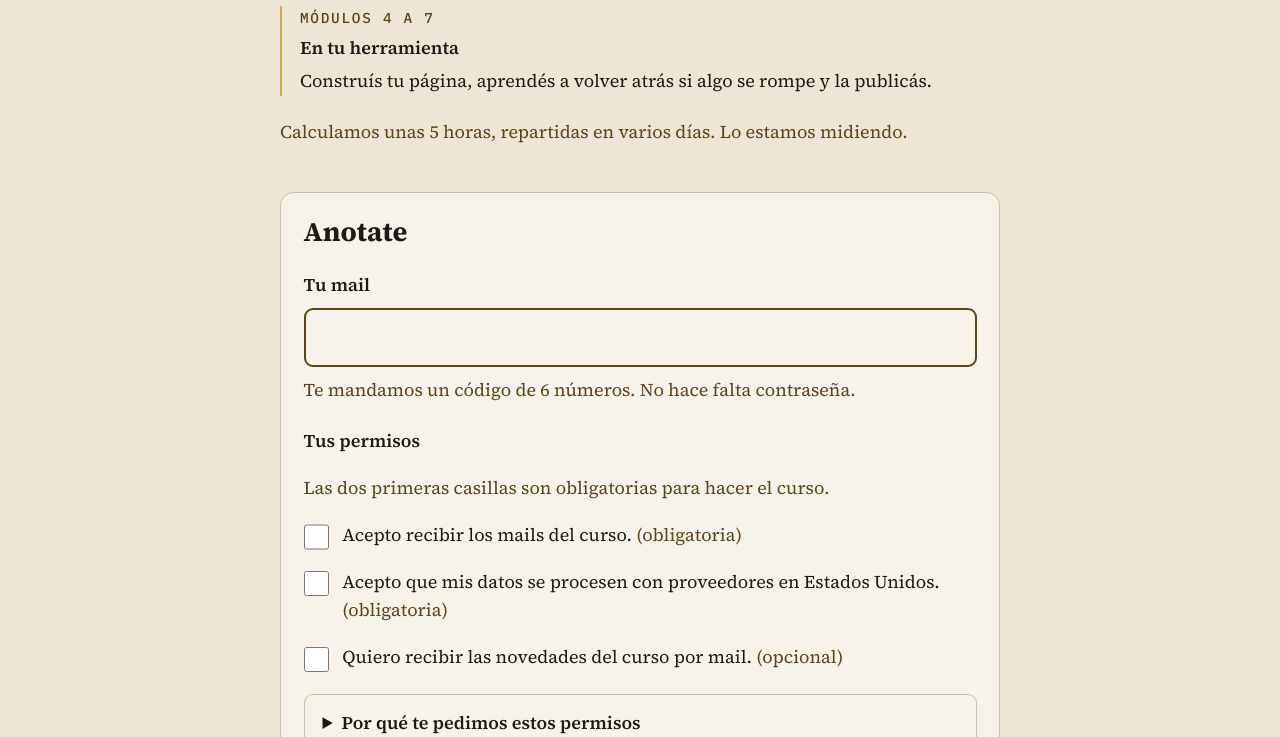
Test: Landing › sin las dos casillas obligatorias explica por qué y no manda nada
(page scrolled)
Type "persona@ejemplo.com" into the field labelled "Tu mail". click: (640, 338)
box: [304, 308, 976, 367]
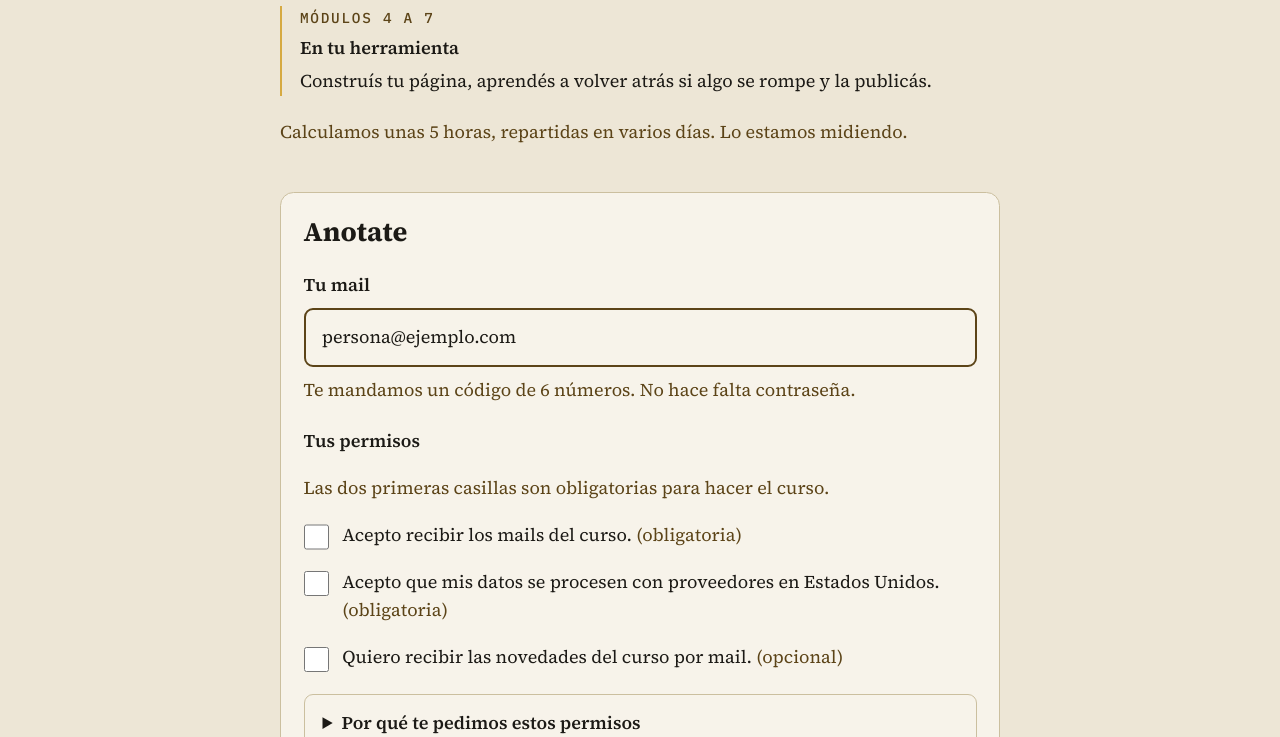
Click the checkbox labelled "Acepto recibir los mails del curso. (obligatoria)". click: (316, 537)
box: [304, 524, 329, 550]
(page scrolled)
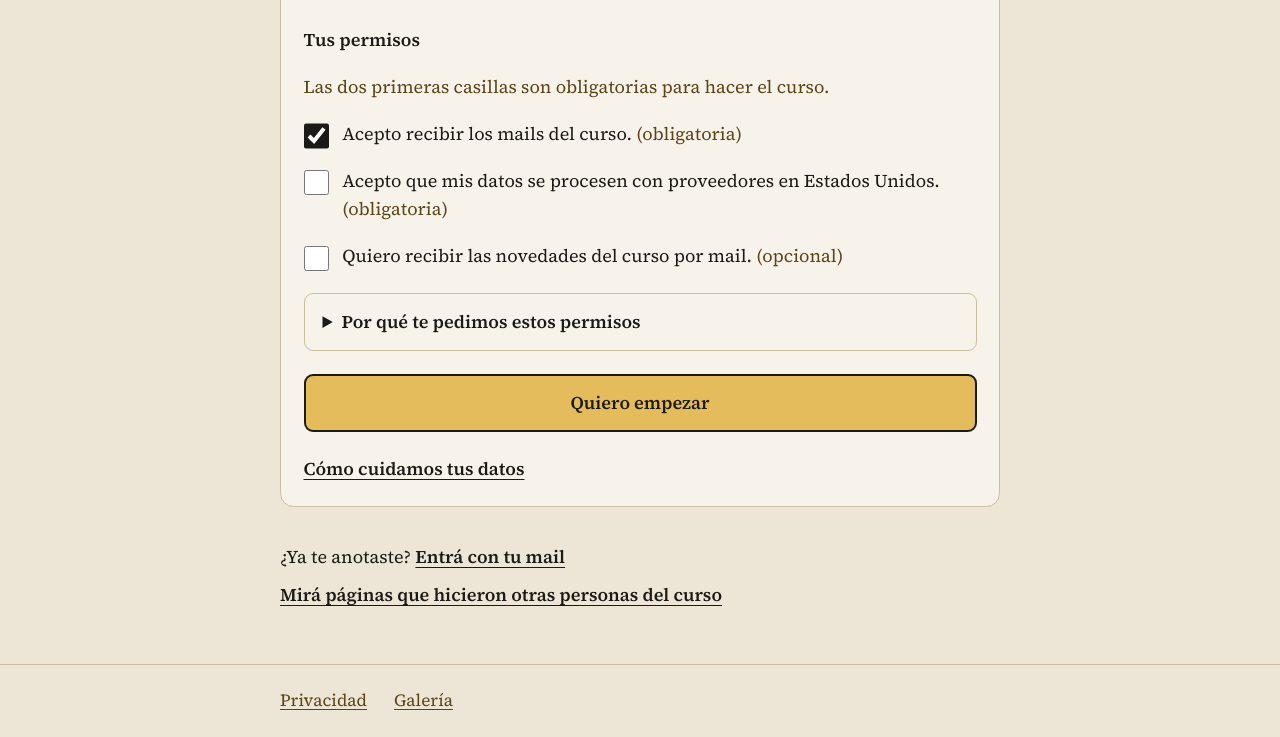
Click the button "Quiero empezar". click: (640, 403)
box: [304, 374, 976, 432]
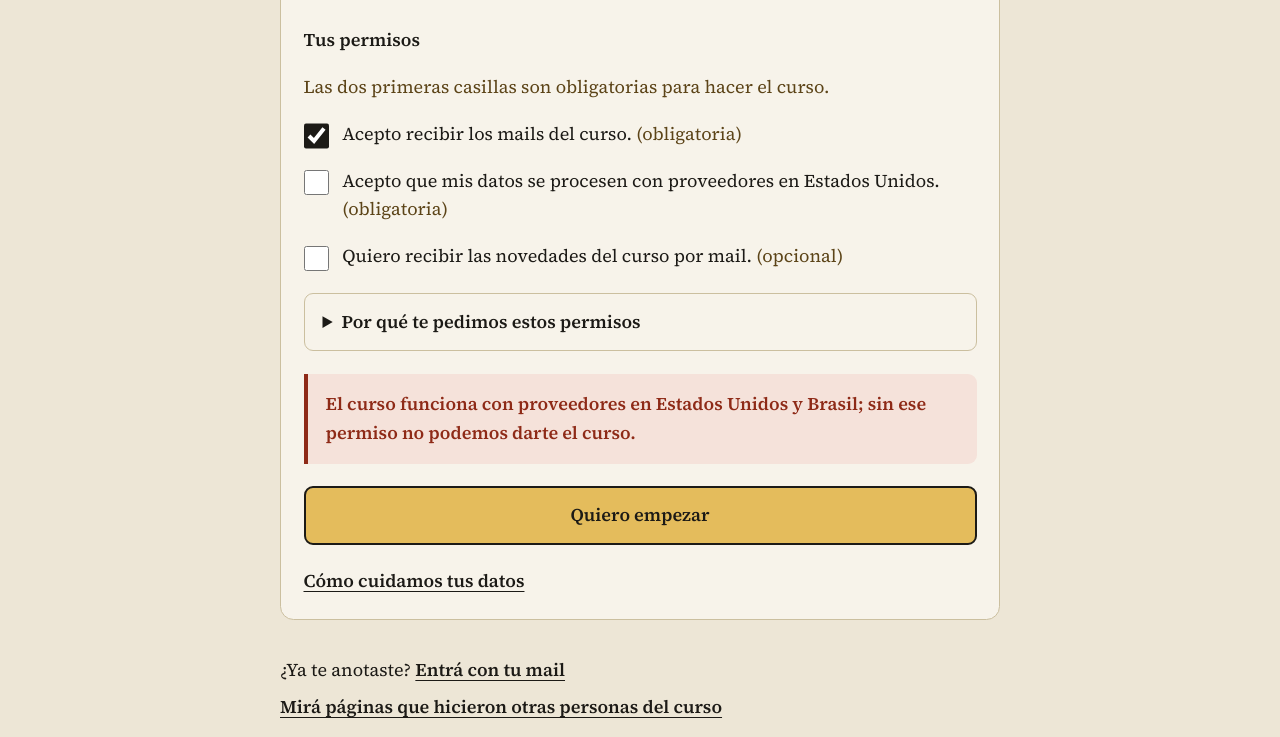
Result: the text "El curso funciona con proveedores en Estados Unidos y Brasil; sin ese permiso no podemos darte el curso." is shown at [326, 391, 926, 445]
